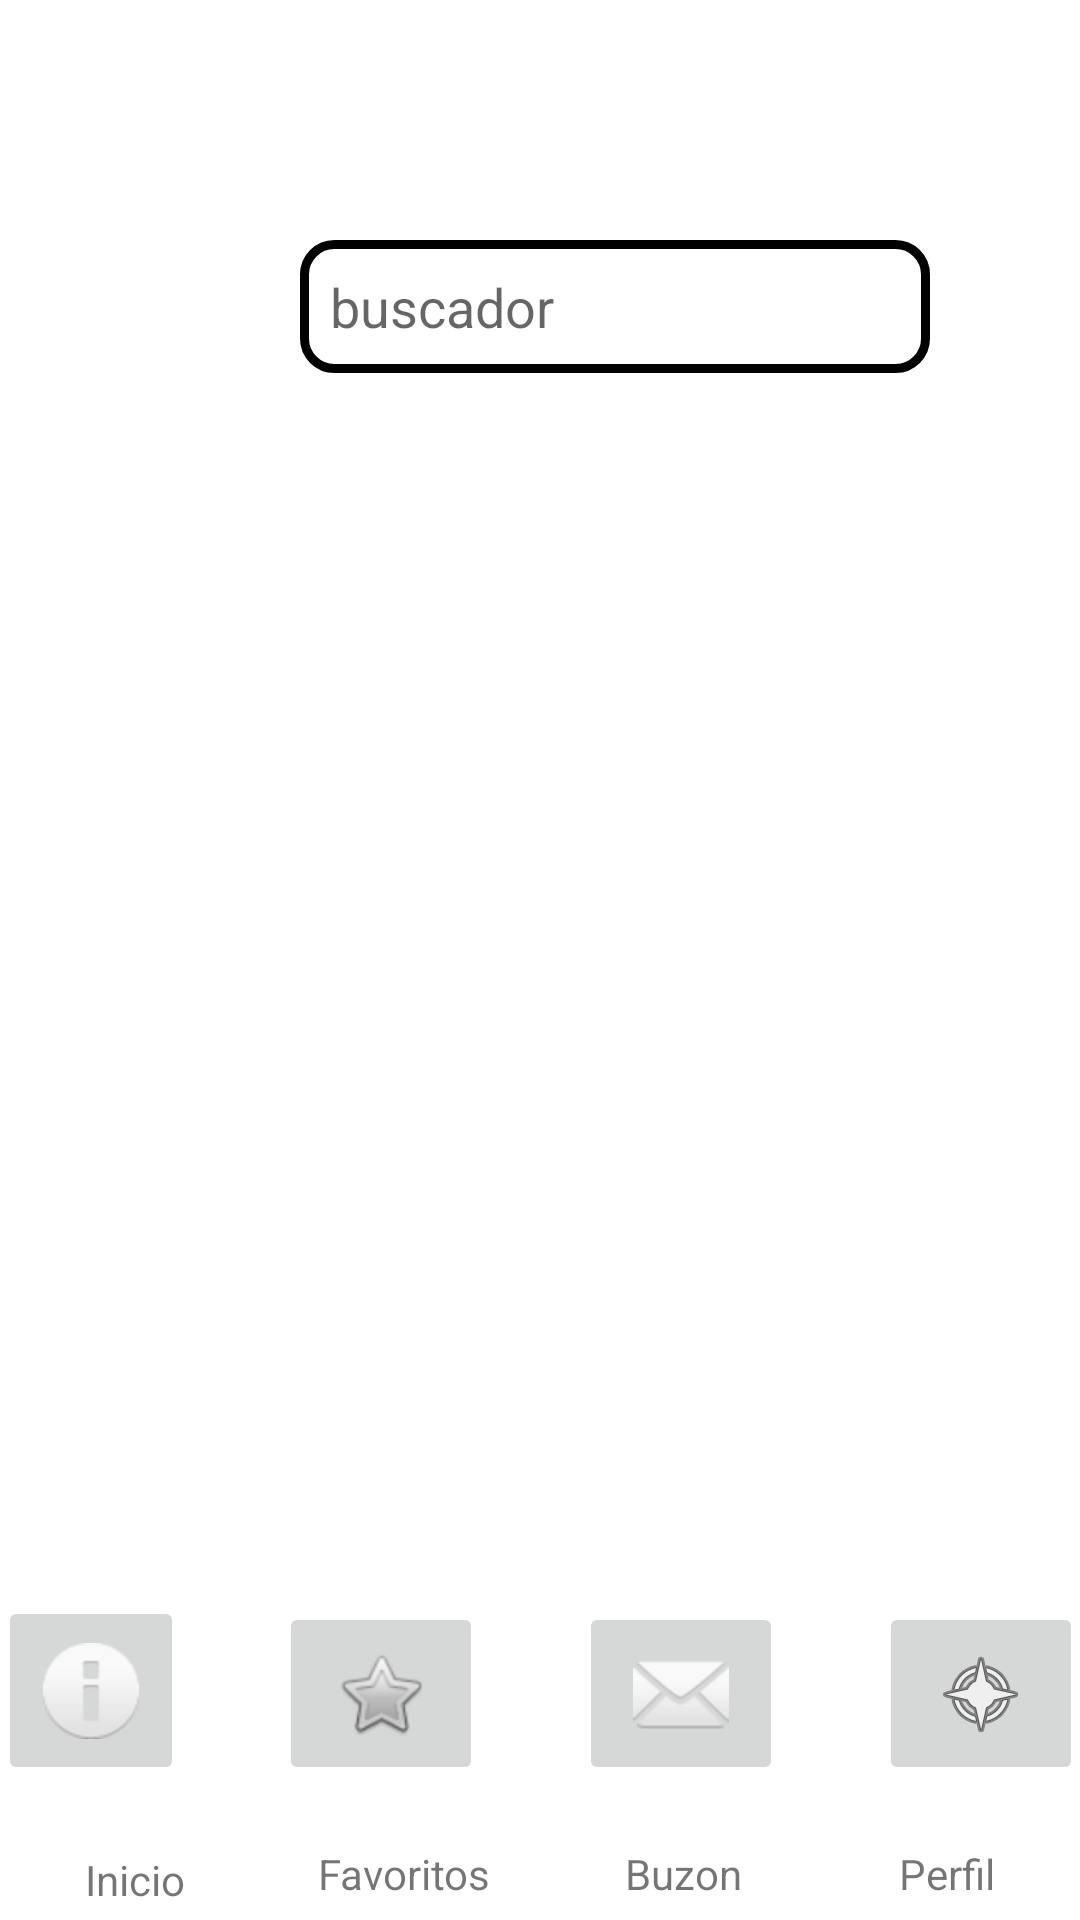

Where to tap for icons on this 1080×1920 app screen, as (x=x, y=y):
compass: (x=981, y=1693)
email: (x=681, y=1693)
info: (x=91, y=1690)
star off: (x=381, y=1693)
